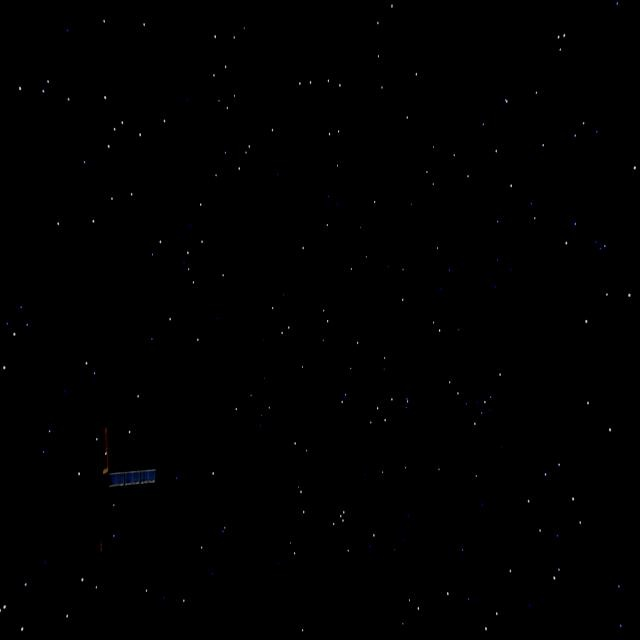satellite: (80, 419, 156, 569)
